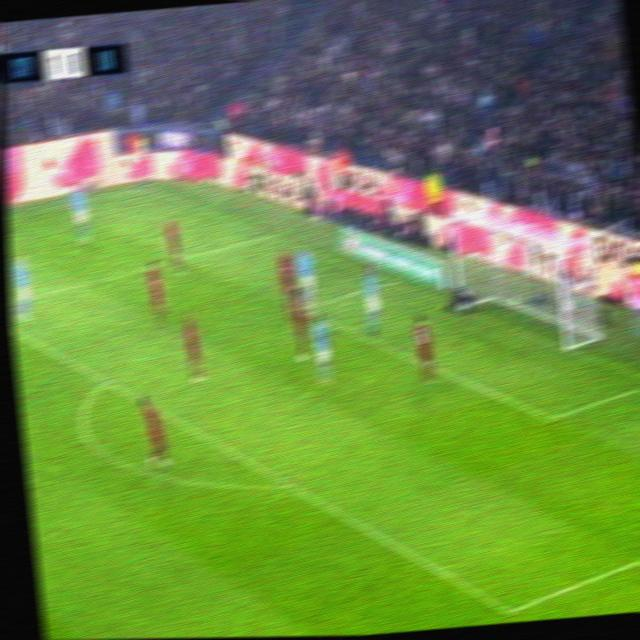bigarea_bottom_inner: (496, 598, 521, 622)
bigarea_top_outter: (261, 229, 276, 241)
bottom_arc_area_intersection: (274, 473, 302, 497)
corner: (133, 182, 153, 196)
smallarea_bottom_inner: (542, 409, 559, 428)
smallarea_top_outter: (383, 273, 399, 289)
top_arc_area_intersection: (96, 373, 112, 390)
